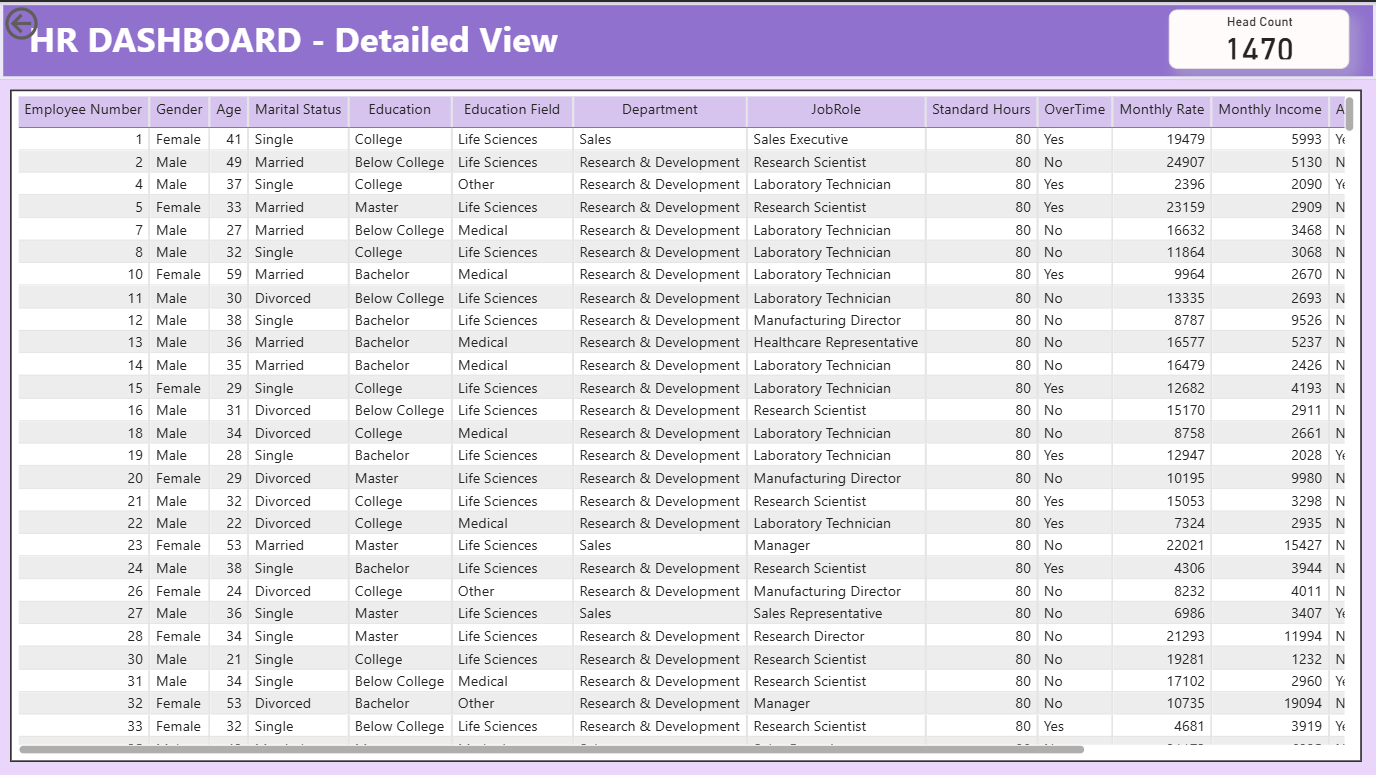

Layout of this report page (visuals, bound fields, positions):
{"tool":"powerbi","page":{"name":"Table view","canvas":[1280,720],"ordinal":1},"visuals":[{"type":"shape","box":[0,0,1280.2,72.1],"z":0},{"type":"textbox","box":[22.1,7.4,669.9,55.2],"z":1000},{"type":"tableEx","fields":{"Values":["HR_Project_Power BI.EmployeeNumber","HR_Project_Power BI.Gender","Sum(HR_Project_Power BI.Age)","HR_Project_Power BI.MaritalStatus","HR_Project_Power BI.Education","HR_Project_Power BI.EducationField","HR_Project_Power BI.Department","HR_Project_Power BI.JobRole","Sum(HR_Project_Power BI.StandardHours)","HR_Project_Power BI.OverTime","Sum(HR_Project_Power BI.MonthlyRate)","Sum(HR_Project_Power BI.MonthlyIncome)"]},"box":[9.8,81,1257.7,625.8],"z":2000},{"type":"card","title":"Head Count","fields":{"Values":["Sum(HR_Project_Power BI.EmployeeCount)"]},"box":[1087.1,7.4,168.1,55.2],"z":3000},{"type":"actionButton","box":[0,0,100,40],"z":4000}]}

Visuals, with their boxes in screenshot pixels (x1, y1, x2, y2), scaled from the page's 1280x720 canvas onto the 1376x775 screenshot:
shape: [0, 0, 1375, 78]
textbox: [24, 8, 744, 67]
tableEx - HR_Project_Power BI.EmployeeNumber x HR_Project_Power BI.Gender: [11, 87, 1363, 761]
"Head Count" card: [1169, 8, 1349, 67]
actionButton: [0, 0, 108, 43]
